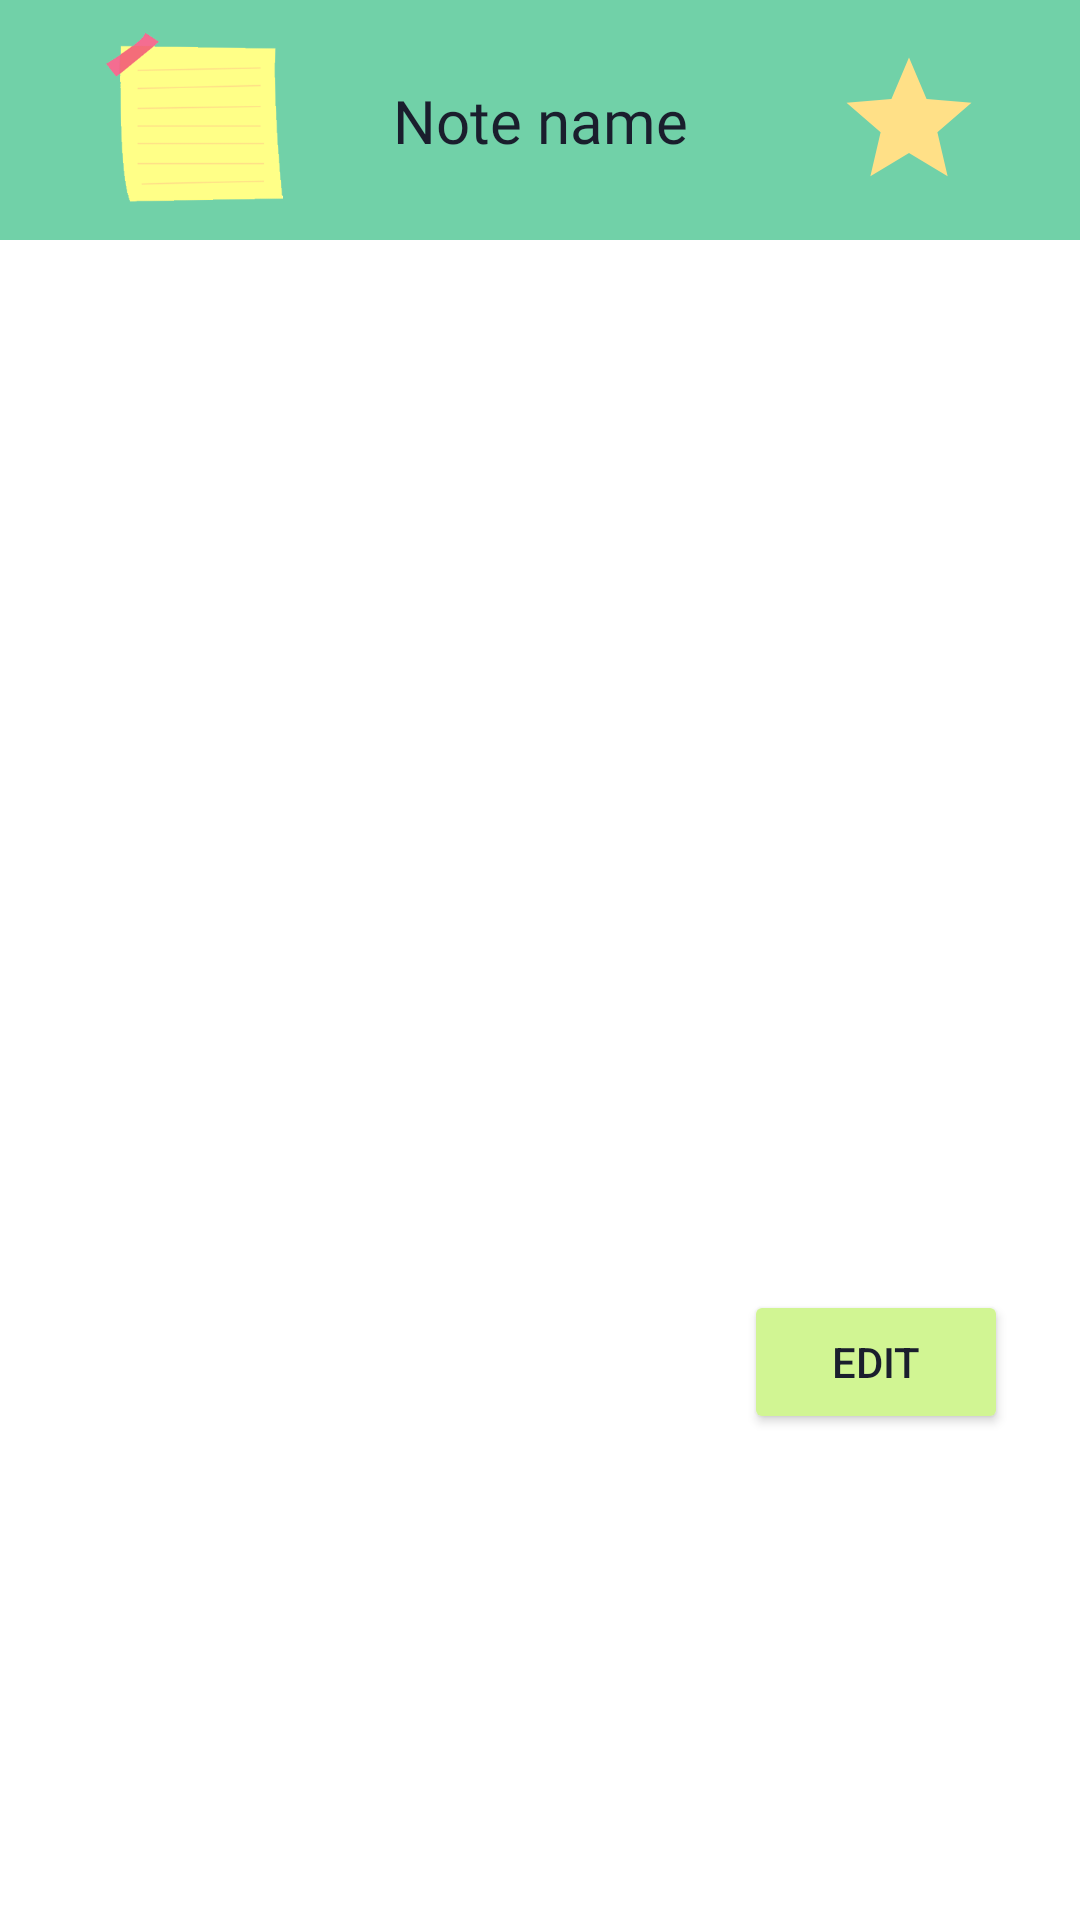

Screen size 1080px×1920px. Icon name, then its box in pixels as (x1, y1, x2, y2):
star: (847, 58, 971, 176)
